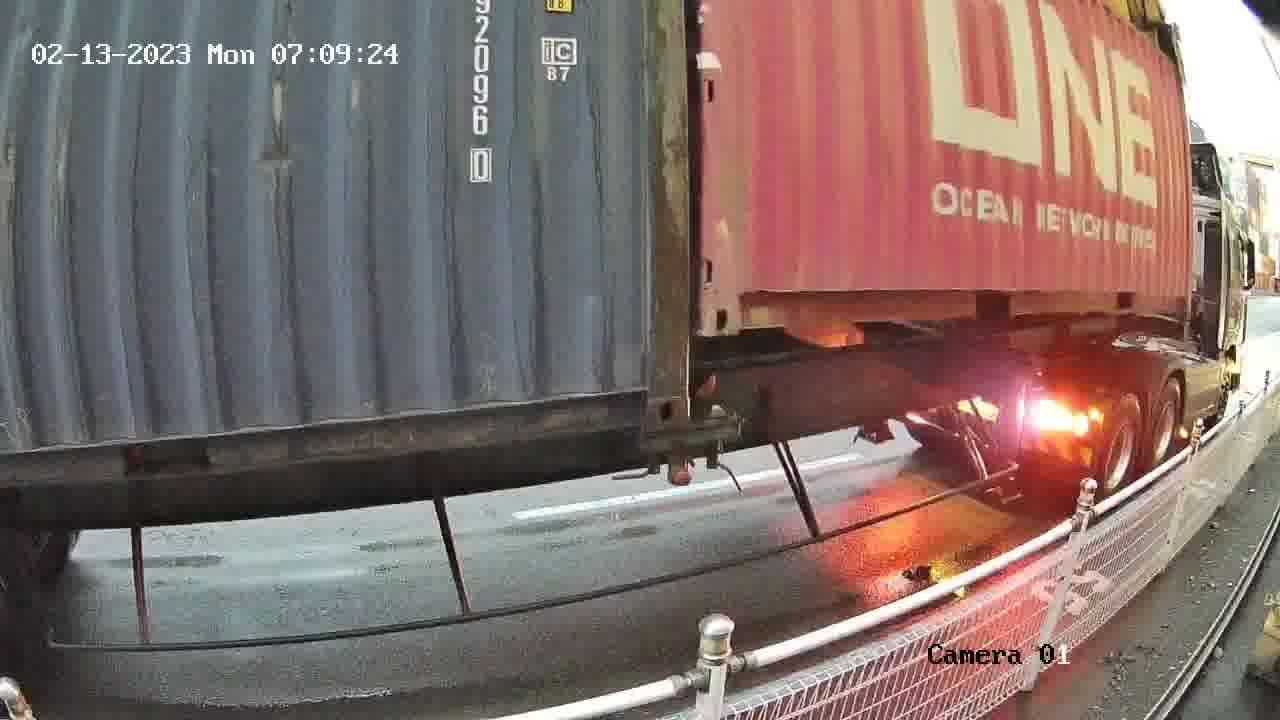Cone: (701, 404, 729, 473), (640, 429, 667, 476)
Hole_L: (705, 258, 776, 335)
Hole_R: (605, 353, 688, 431)
Tire: (1094, 397, 1144, 510), (1145, 380, 1183, 477)
